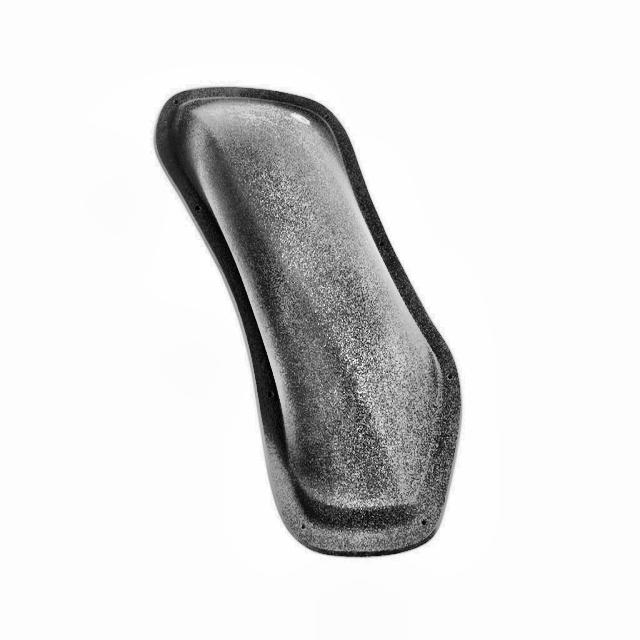Hold: (153, 79, 477, 561)
